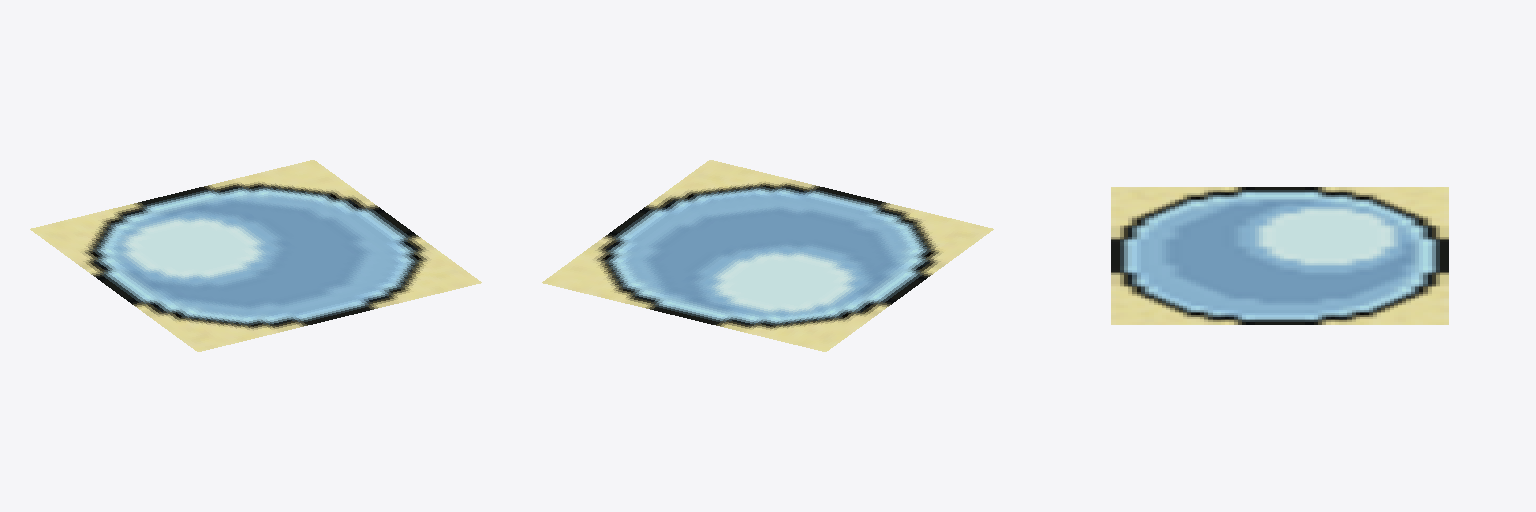
3 renders of one model, left to right at view 1: azimuth 30°, elevation 25°; view 2: azimuth 150°, elevation 25°; view 3: azimuth 270°, elevation 25°, orthographic.
Parts seen in each view (by area): view 1: Box001; view 2: Box001; view 3: Box001.
Part boxes in pixels (bbox=[...]): Box001: bbox=[30, 160, 481, 351]; Box001: bbox=[542, 160, 993, 351]; Box001: bbox=[1111, 187, 1448, 324].
Size of the model in its own units: 78 by 0.0001 by 80.
Materials: 1 (1 with a texture image).